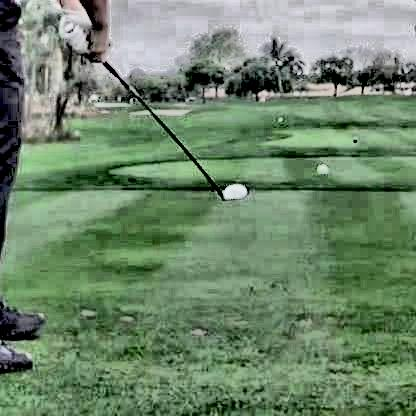golfball: (313, 161, 328, 175)
